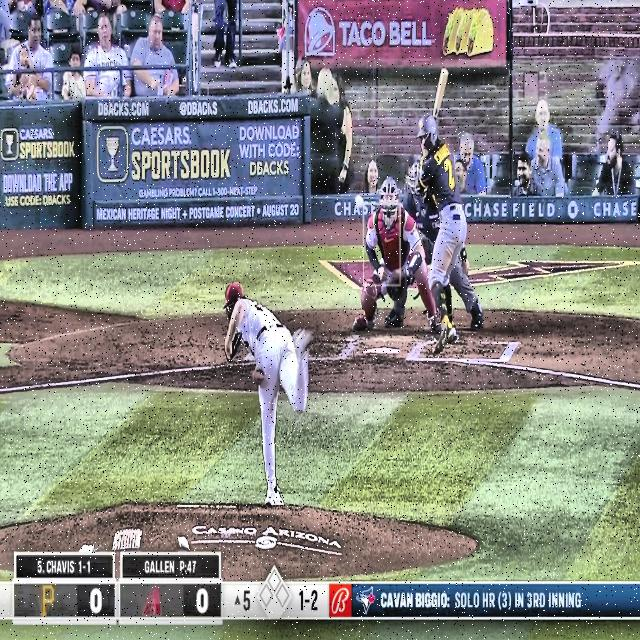baseball: (355, 195, 363, 208)
